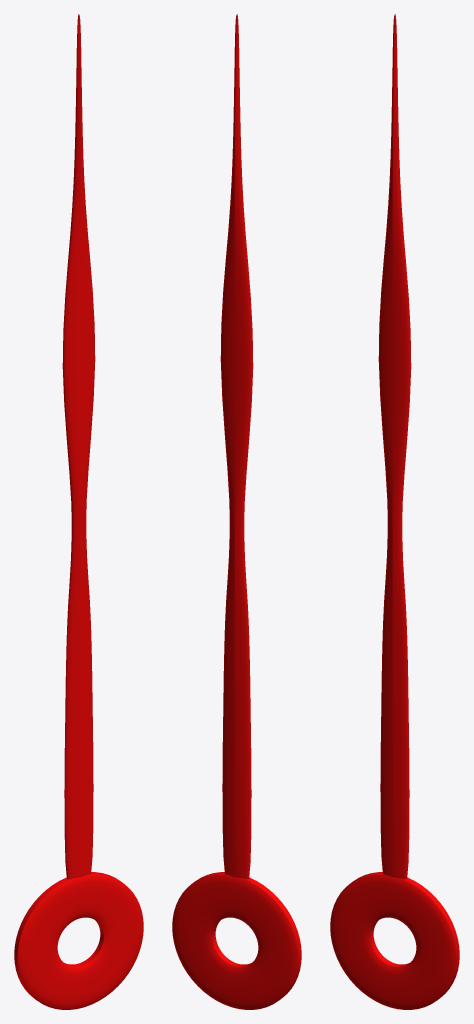
File: 小鬧鐘_secondV3.glb
3 views of the same model, side by side, from view 1: azimuth 30°, elevation 25°; view 2: azimuth 150°, elevation 25°; view 3: azimuth 330°, elevation 25° (orthographic).
Visible parts, largest first — view 1: second; view 2: second; view 3: second.
Part boxes in pixels (x1=…): second: x1=14, y1=14, x2=143, y2=1009; second: x1=172, y1=14, x2=301, y2=1009; second: x1=330, y1=14, x2=459, y2=1009.
Size of the model in its own units: 501 by 3766 by 40.09.
